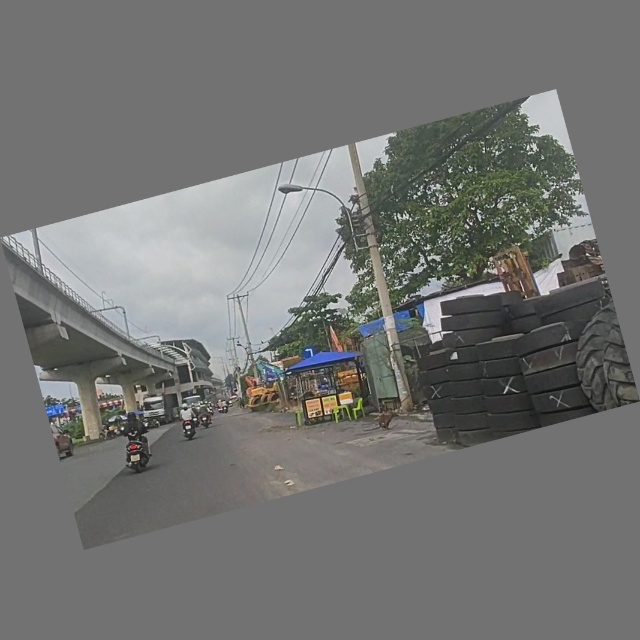R.301e: (300, 346, 318, 361)
